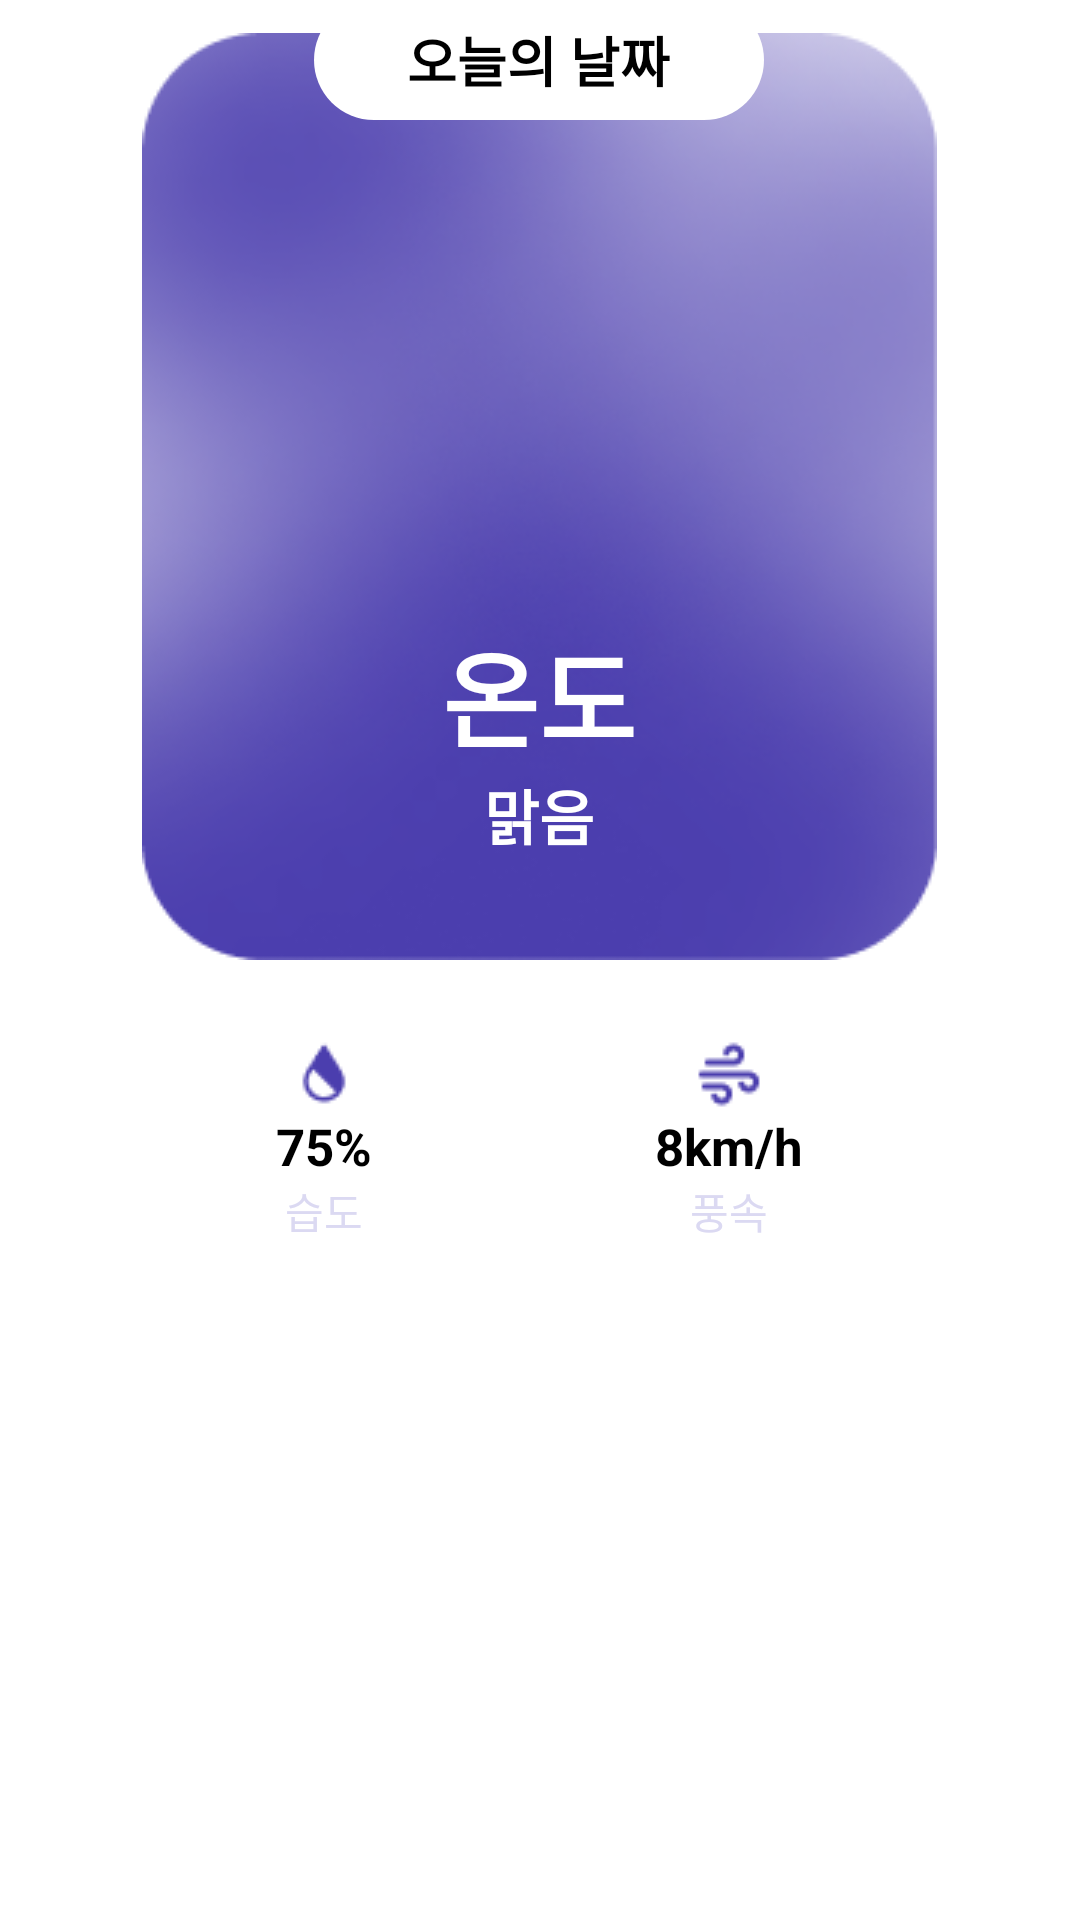

Named icons in this screenshot (1080px×1920px) and their bounding boxes, [x1, y1, x2, y2]:
humidity: [302, 1044, 346, 1104]
wind: [698, 1042, 760, 1107]
